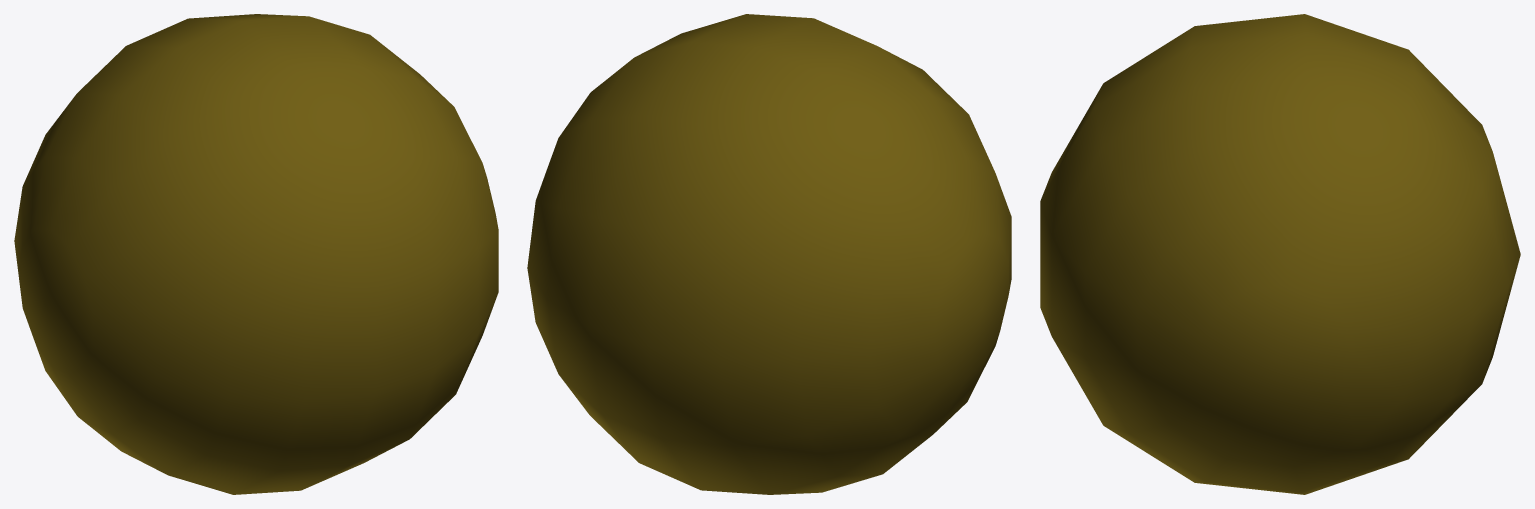
File: DoorKnob.obj
The picture shows the model from 3 angles, left to right: view 1: azimuth 30°, elevation 25°; view 2: azimuth 150°, elevation 25°; view 3: azimuth 270°, elevation 25°; orthographic projection.
Parts seen in each view (by area): view 1: DoorKnob1 Doors1 HouseBase1; view 2: DoorKnob1 Doors1 HouseBase1; view 3: DoorKnob1 Doors1 HouseBase1.
Boxes of the visible parts, x1,y1,x2,y2 form: DoorKnob1 Doors1 HouseBase1: (14, 14, 498, 494); DoorKnob1 Doors1 HouseBase1: (527, 14, 1011, 494); DoorKnob1 Doors1 HouseBase1: (1040, 14, 1520, 494).
Bounding box in the file's own units: 0.5791 × 0.5749 × 0.5707.
